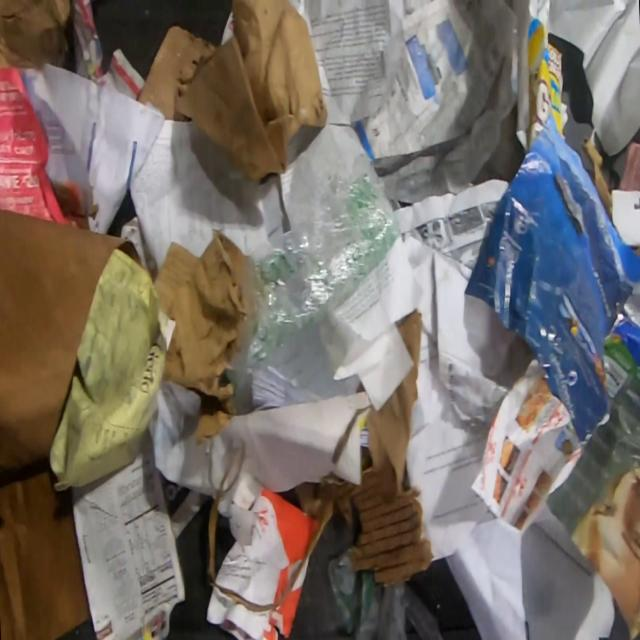cardboard: (0, 208, 128, 640), (292, 310, 433, 589), (177, 0, 329, 185), (71, 428, 187, 640), (151, 229, 258, 442), (204, 485, 326, 640), (136, 25, 218, 123), (580, 138, 612, 223)
soft_plastic: (225, 153, 400, 393)
